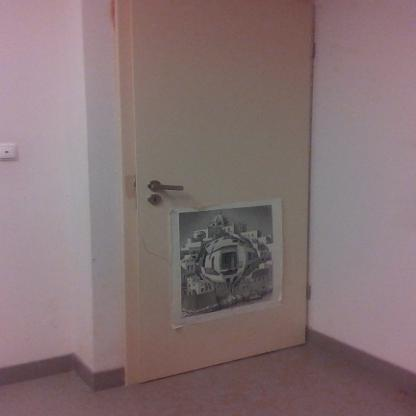door: (131, 0, 311, 360)
hinged: (304, 280, 314, 303), (308, 38, 318, 60)
lever: (147, 182, 186, 194)
